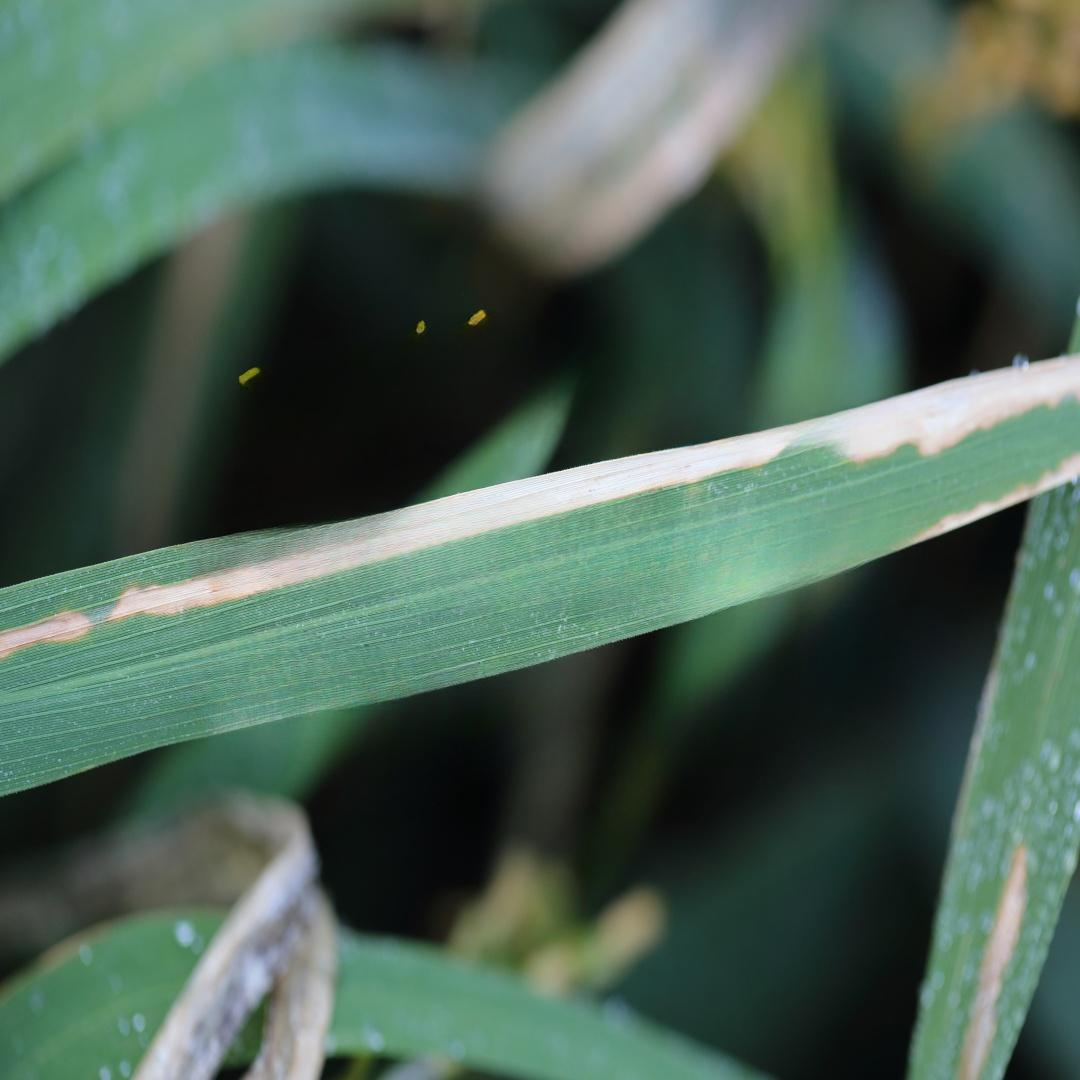BLB: (107, 356, 1078, 623)
LEAF: (0, 354, 1079, 794)
